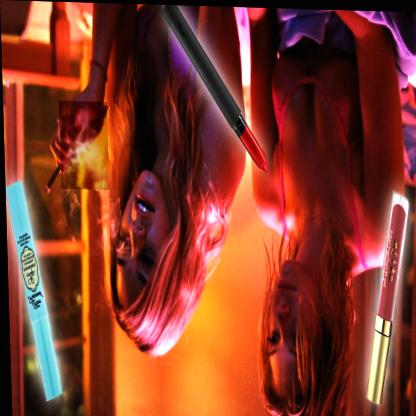smoke: (58, 100, 108, 189)
